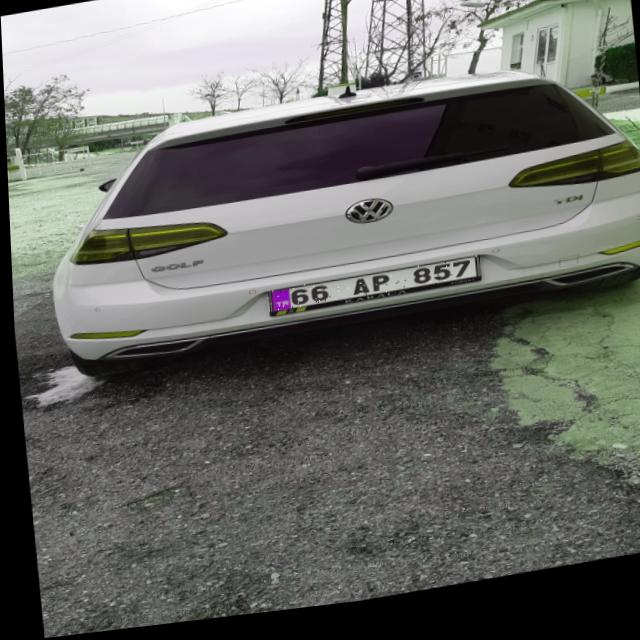plate: (264, 266, 477, 319)
